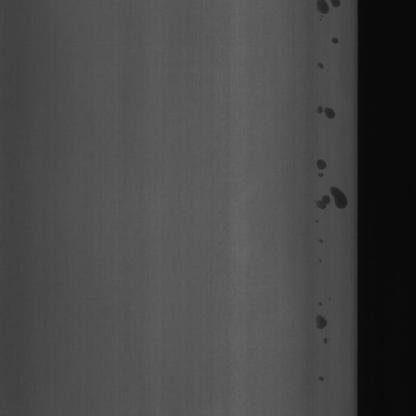oil_spot: (315, 285, 334, 386), (314, 181, 353, 224), (314, 90, 337, 125), (312, 0, 337, 30), (312, 157, 334, 178), (314, 50, 330, 68)
